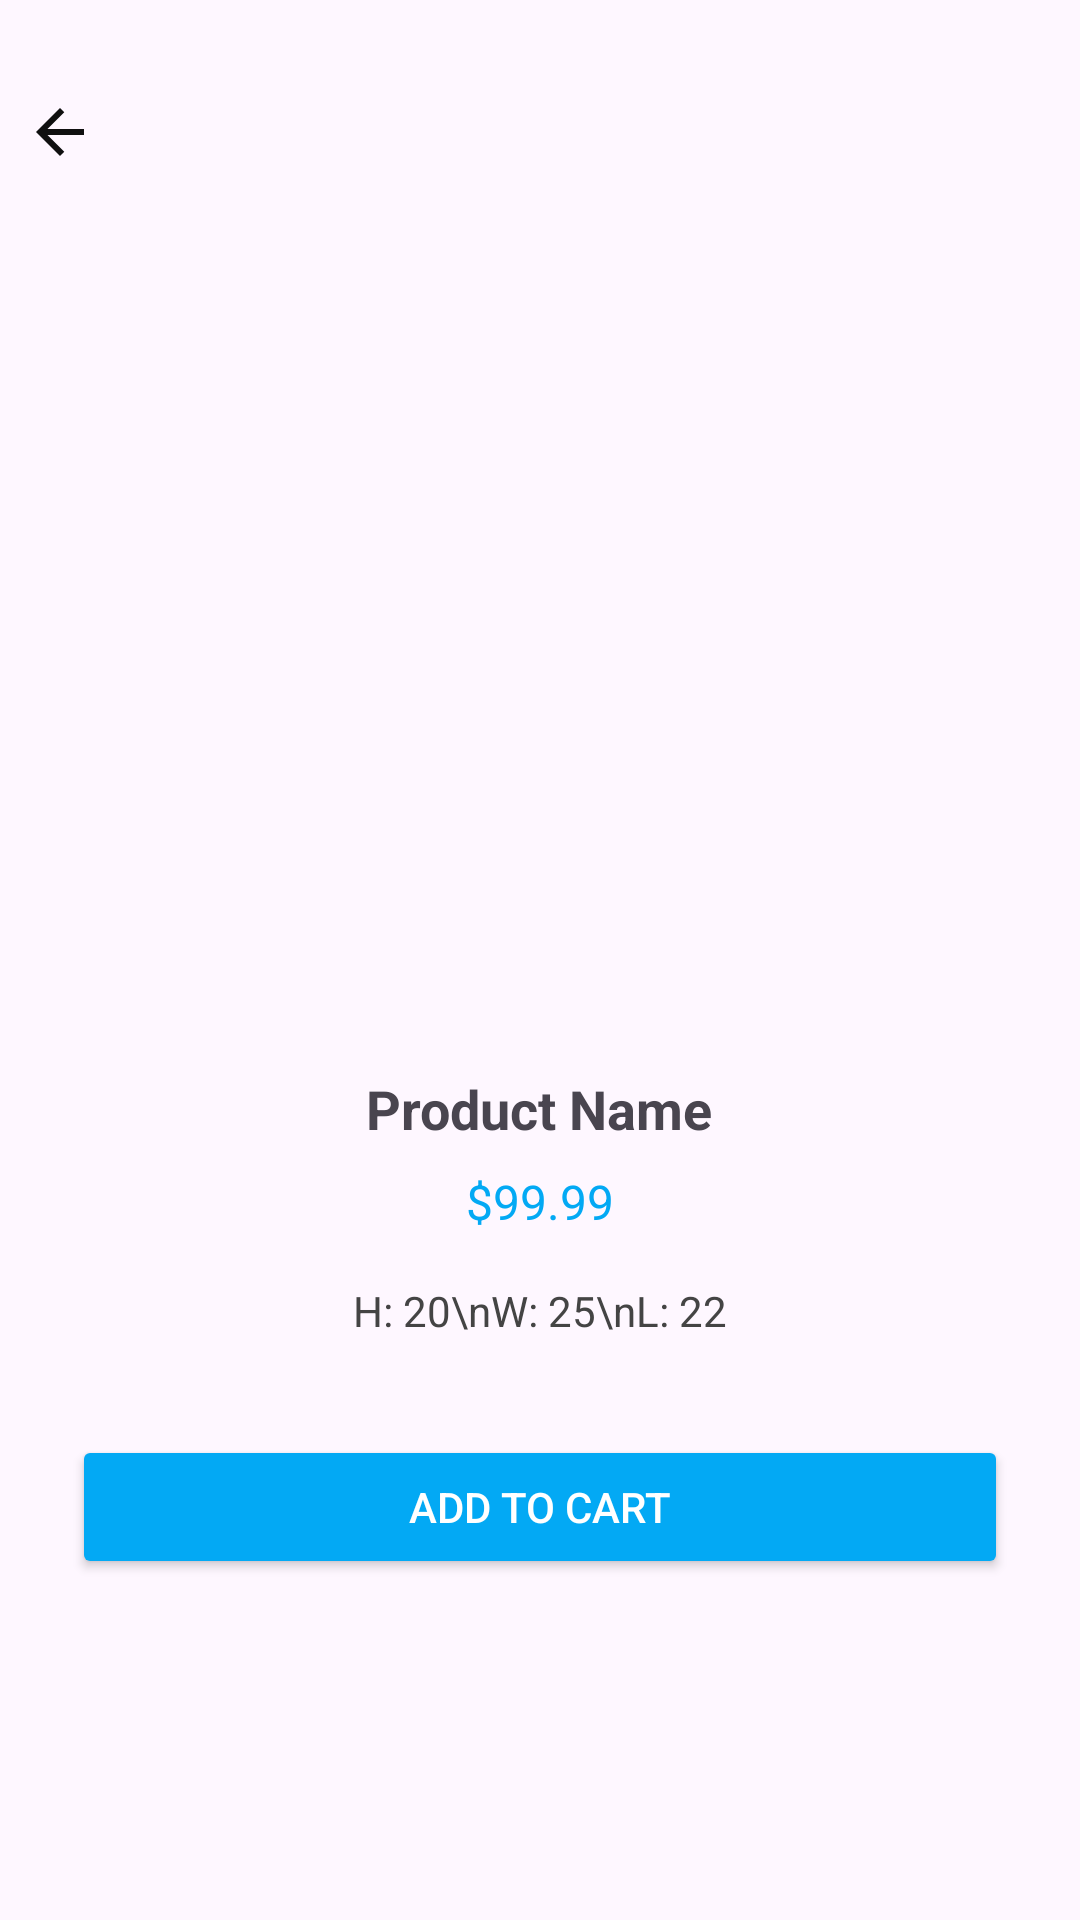

Where to tap for icons on this 1080 × 1920 app screen, as point (x, y):
Back: point (60, 132)
